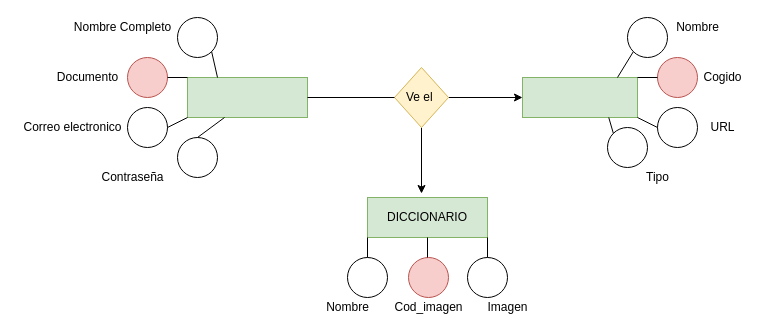
Some shapes in this 764 by 335 pixel diagram are drawn without their labels. The shapes that lost their labels are listed below. From the top down, each one's box as (x1, y1, x2, y2) in pixels, then its label:
(186, 76, 308, 118): USUARIO
(522, 76, 638, 118): TUTORIAL
